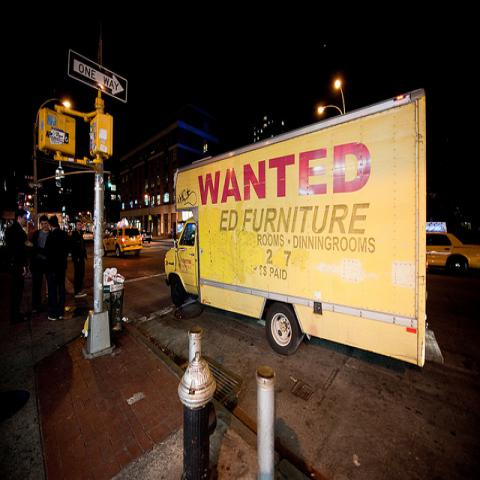car: (426, 221, 479, 277), (103, 227, 143, 257), (140, 230, 154, 244), (80, 230, 94, 243)
truck: (163, 92, 426, 374)
